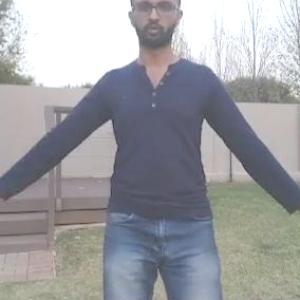land: (24, 0, 288, 299)
